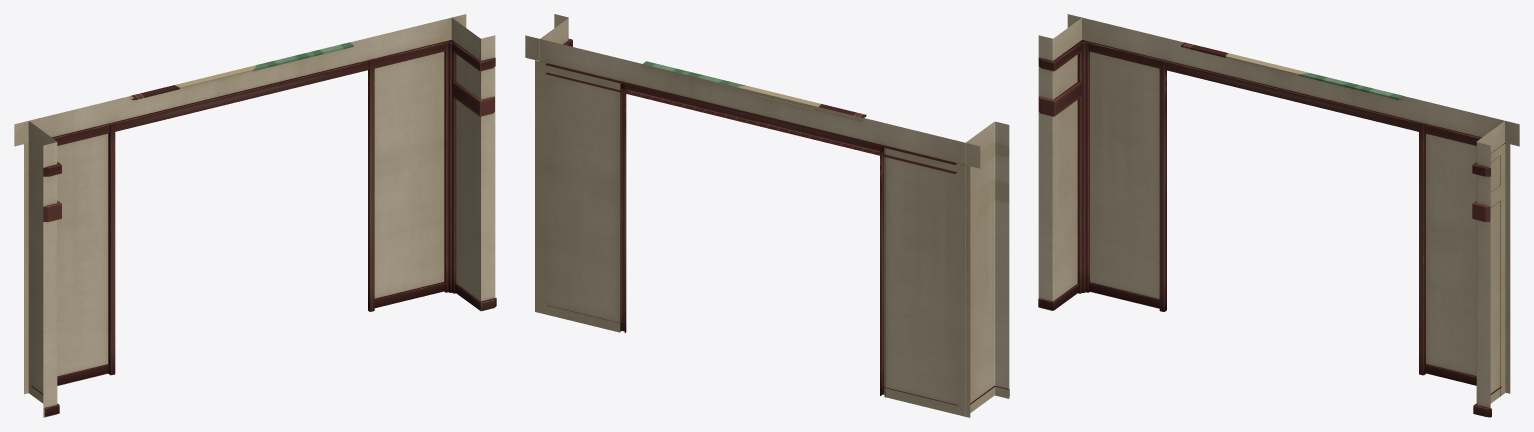
File: TraditionalKoreanHouse_DoorWall.fbx
The picture shows the model from 3 angles, left to right: view 1: azimuth 30°, elevation 25°; view 2: azimuth 150°, elevation 25°; view 3: azimuth 330°, elevation 25°; orthographic projection.
Parts seen in each view (by area): view 1: TraditionalKoreanHouse_DoorWall; view 2: TraditionalKoreanHouse_DoorWall; view 3: TraditionalKoreanHouse_DoorWall.
Part boxes in pixels (<box>): TraditionalKoreanHouse_DoorWall: <box>14,14,496,417</box>; TraditionalKoreanHouse_DoorWall: <box>525,14,1009,417</box>; TraditionalKoreanHouse_DoorWall: <box>1038,14,1519,417</box>.
Bounding box in the file's own units: 501 × 288 × 63.49.
